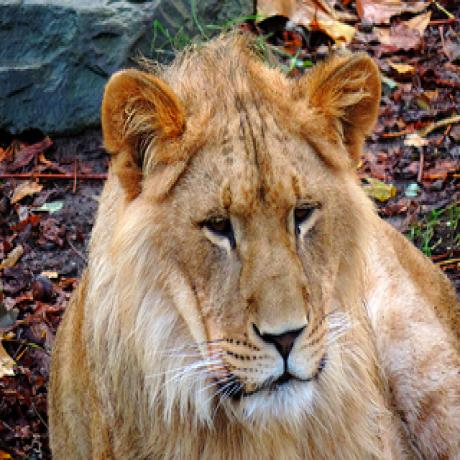Lion: (49, 34, 458, 460)
